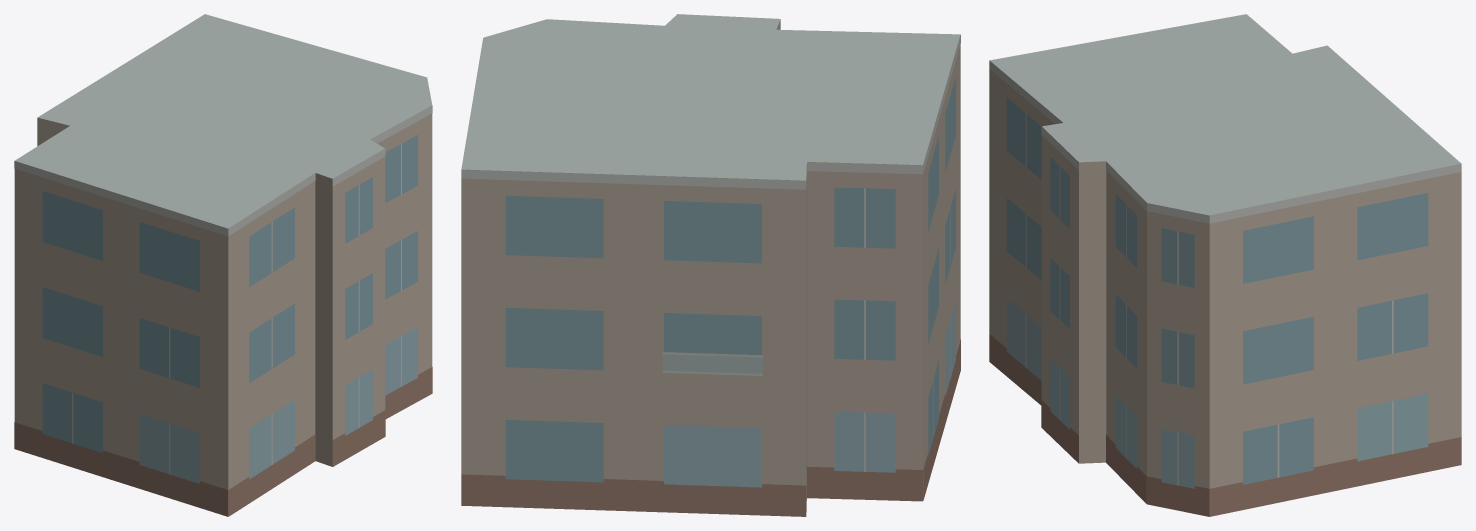
Rendered from survey-upis-32899765.glb.
3 views of the same model, side by side, from view 1: azimuth 30°, elevation 25°; view 2: azimuth 150°, elevation 25°; view 3: azimuth 270°, elevation 25° (orthographic). The views are drawn at different scales.
Visible parts, largest first — view 1: survey-upis-32899765.tmp; view 2: survey-upis-32899765.tmp; view 3: survey-upis-32899765.tmp.
Boxes of the visible parts, x1,y1,x2,y2 form: survey-upis-32899765.tmp: [14, 14, 432, 516]; survey-upis-32899765.tmp: [461, 14, 960, 516]; survey-upis-32899765.tmp: [989, 14, 1461, 516].
Size of the model in its own units: 12.91 by 9 by 12.79.
